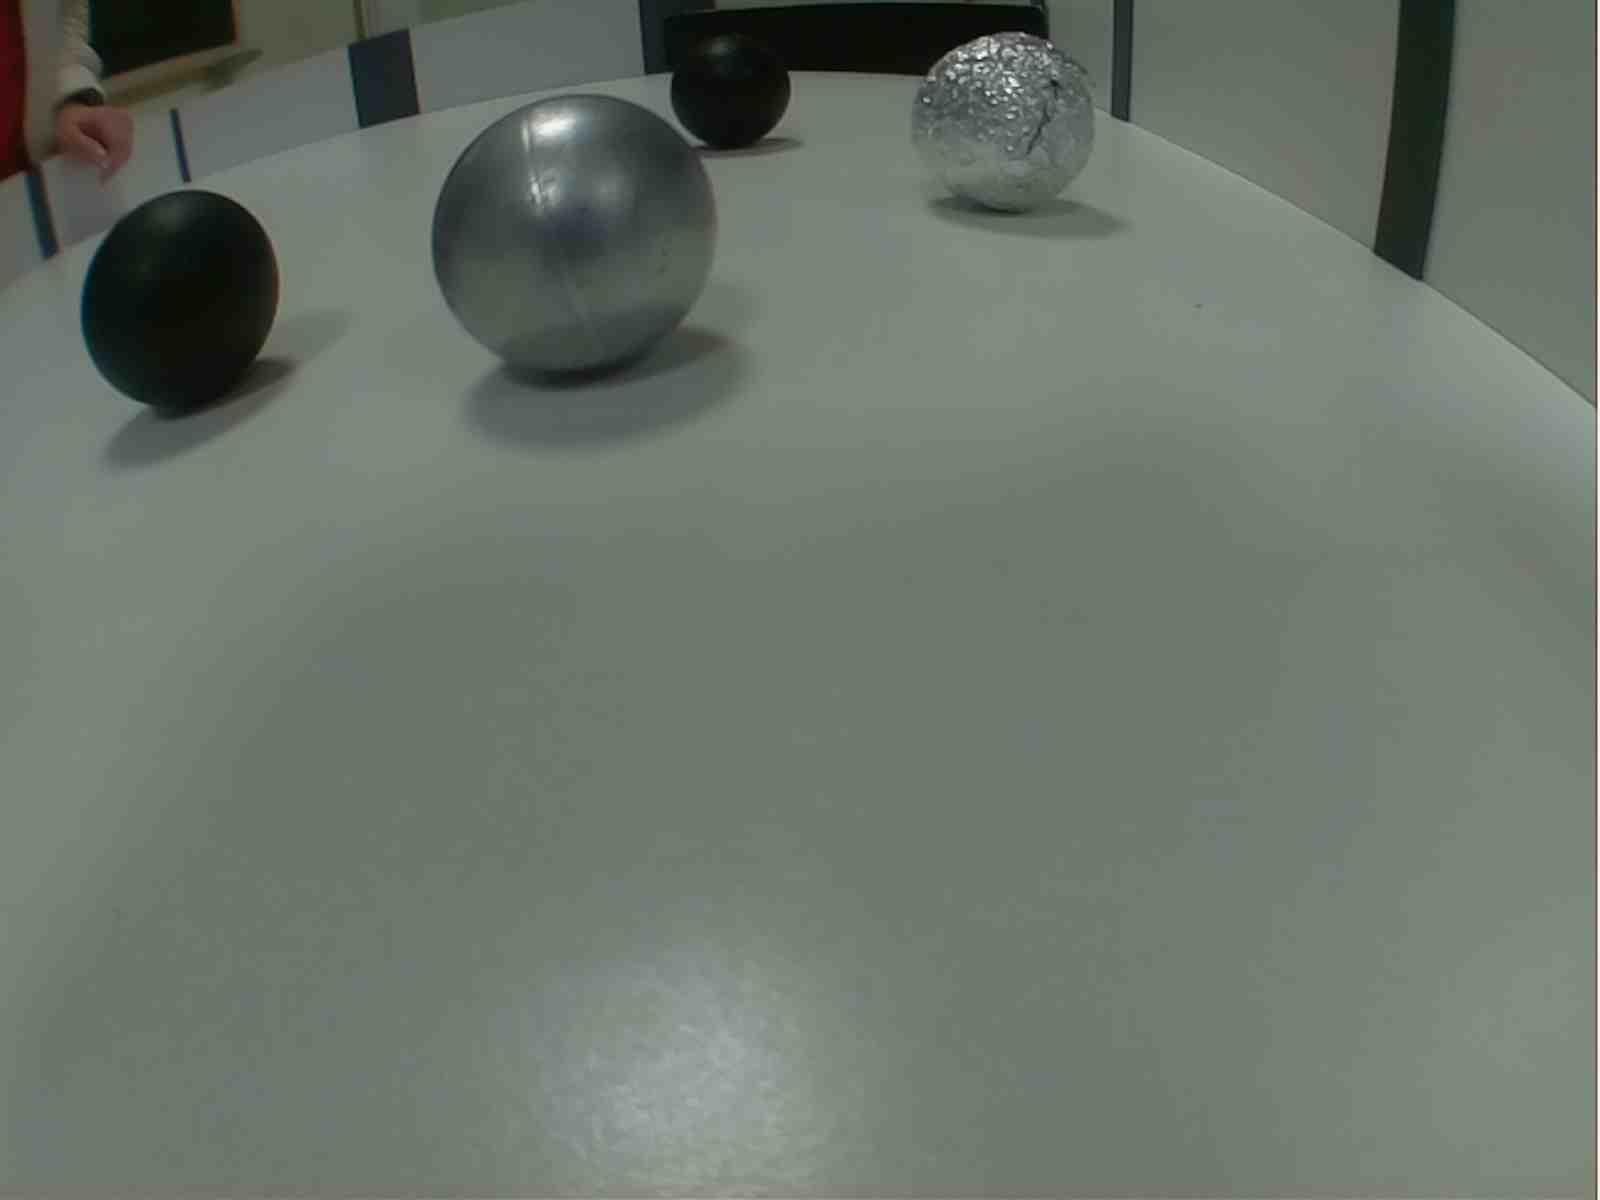bianca: (437, 87, 718, 388), (906, 32, 1102, 212)
nera: (82, 190, 278, 412), (669, 34, 795, 153)
